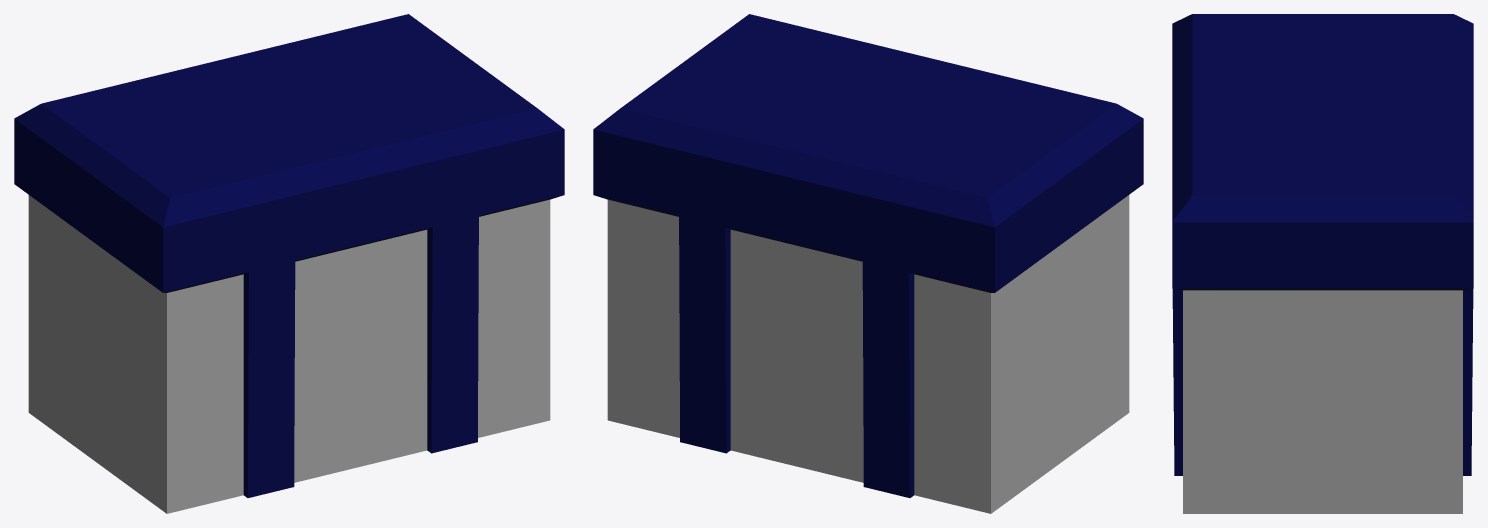
Rendered from esky.fbx.
The picture shows the model from 3 angles, left to right: view 1: azimuth 30°, elevation 25°; view 2: azimuth 150°, elevation 25°; view 3: azimuth 270°, elevation 25°; orthographic projection.
Visible parts, largest first — view 1: esky; view 2: esky; view 3: esky.
Part boxes in pixels (box(x1,y1,x2,y2)): esky: box(14, 14, 564, 513); esky: box(593, 14, 1143, 513); esky: box(1172, 14, 1473, 513).
Bounding box in the file's own units: 83.8 × 61.9 × 53.8.
